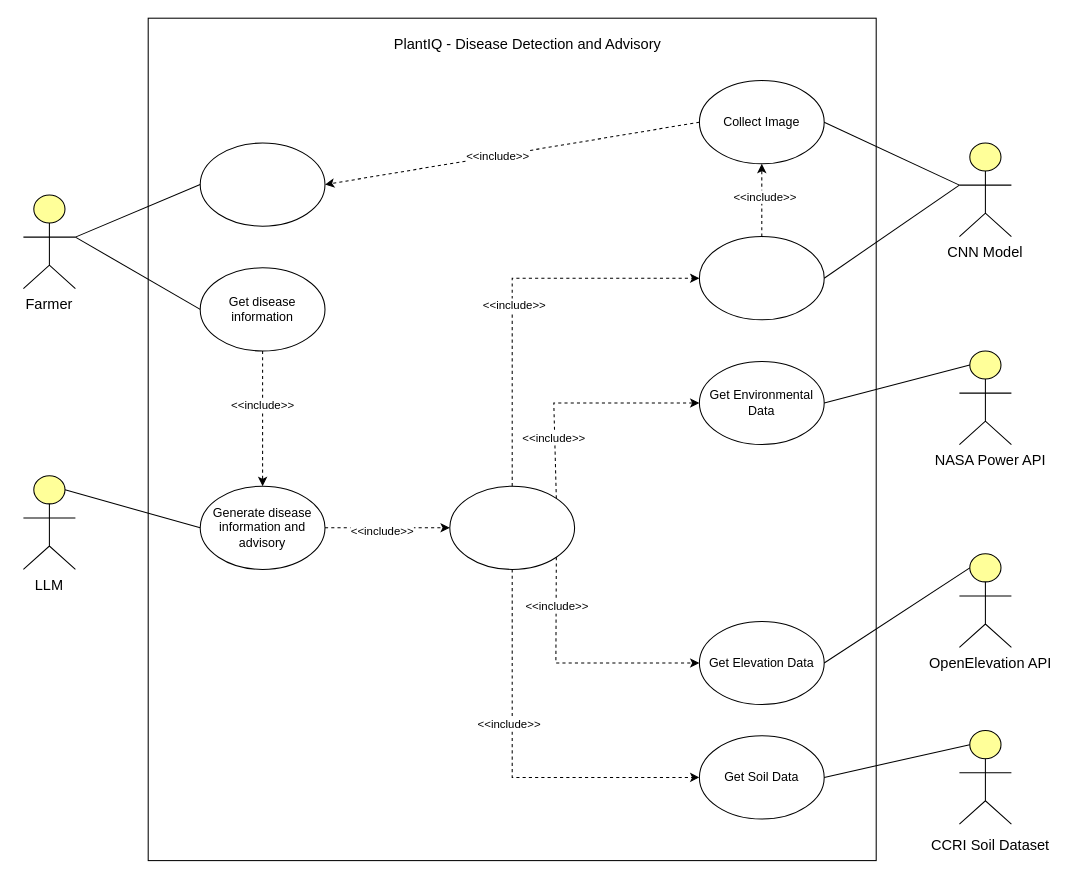
This 1070x879 diagram has some shape labels left out. The shapes that lost their labels are listed below. From the top down, each one's box as (x1, y1, x2, y2) in pixels, then its label:
(199, 142, 325, 226): Upload an Image
(698, 236, 824, 320): Disease Prediction
(449, 485, 575, 569): Find the answer in Knowledge graph/database
